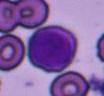L: (28, 25, 76, 72)
